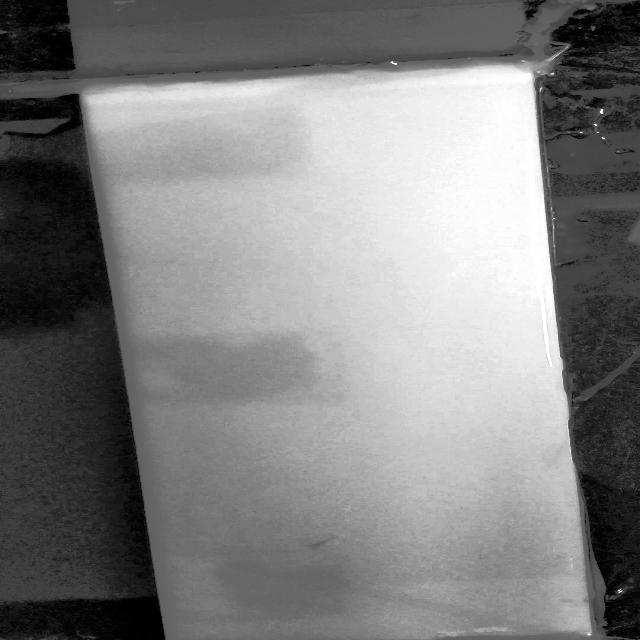shrimp: (295, 526, 357, 556)
